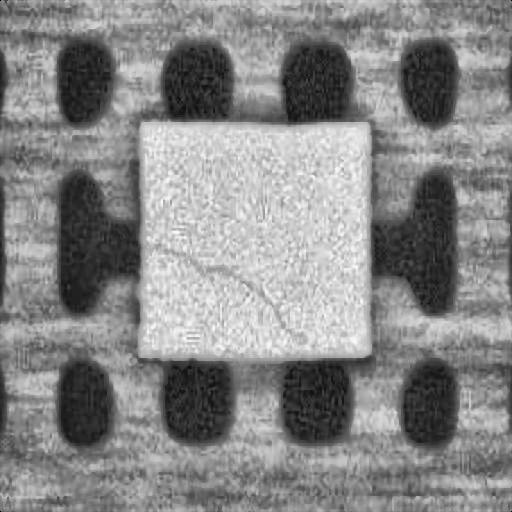DIE_CRACK: (152, 247, 308, 334)
